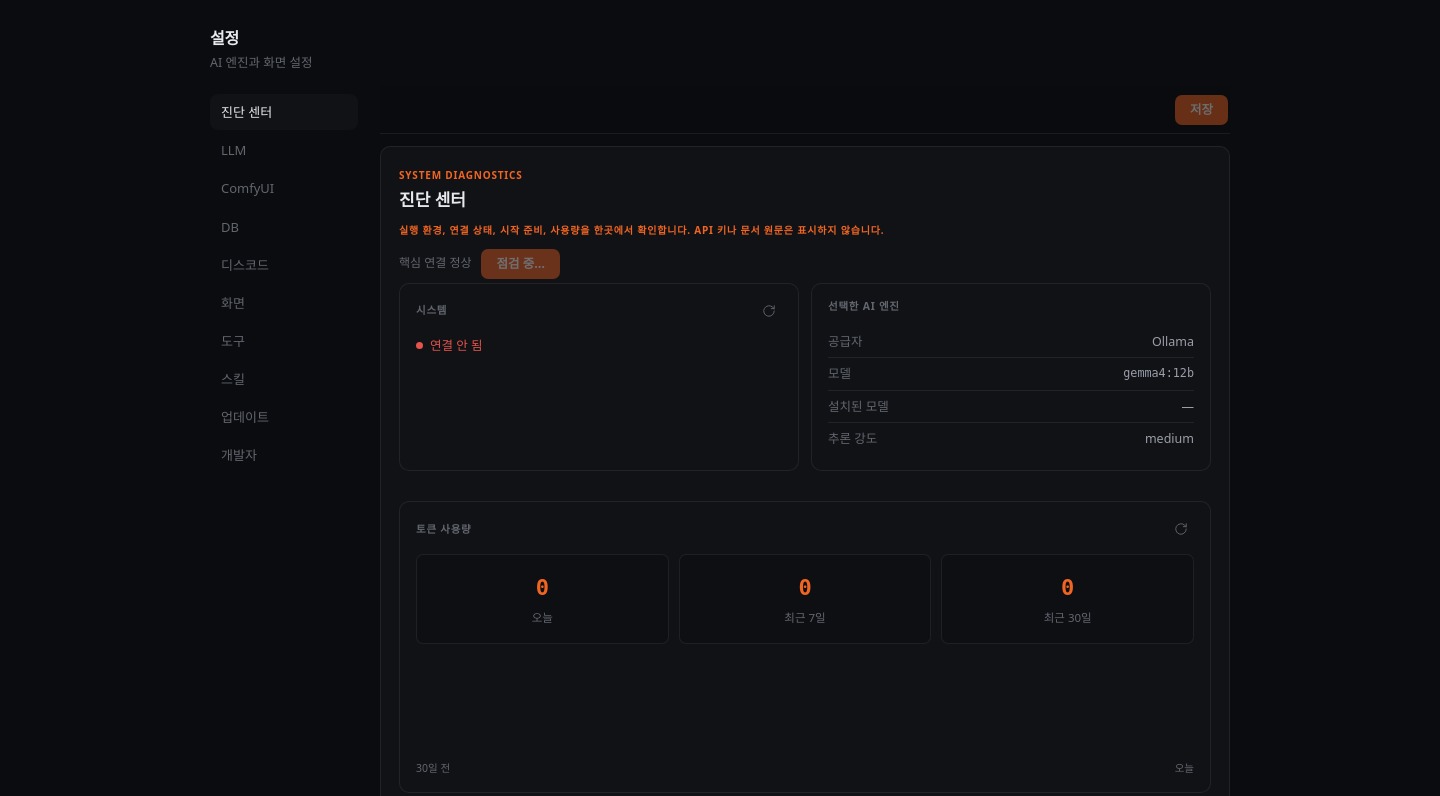
Test: 저장소 보고 등록 › 폴더를 고르기 전에는 브랜치를 묻지 않는다 — 고를 것이 없다
Click the button "디스코드" at (284, 265), box [210, 247, 358, 283]
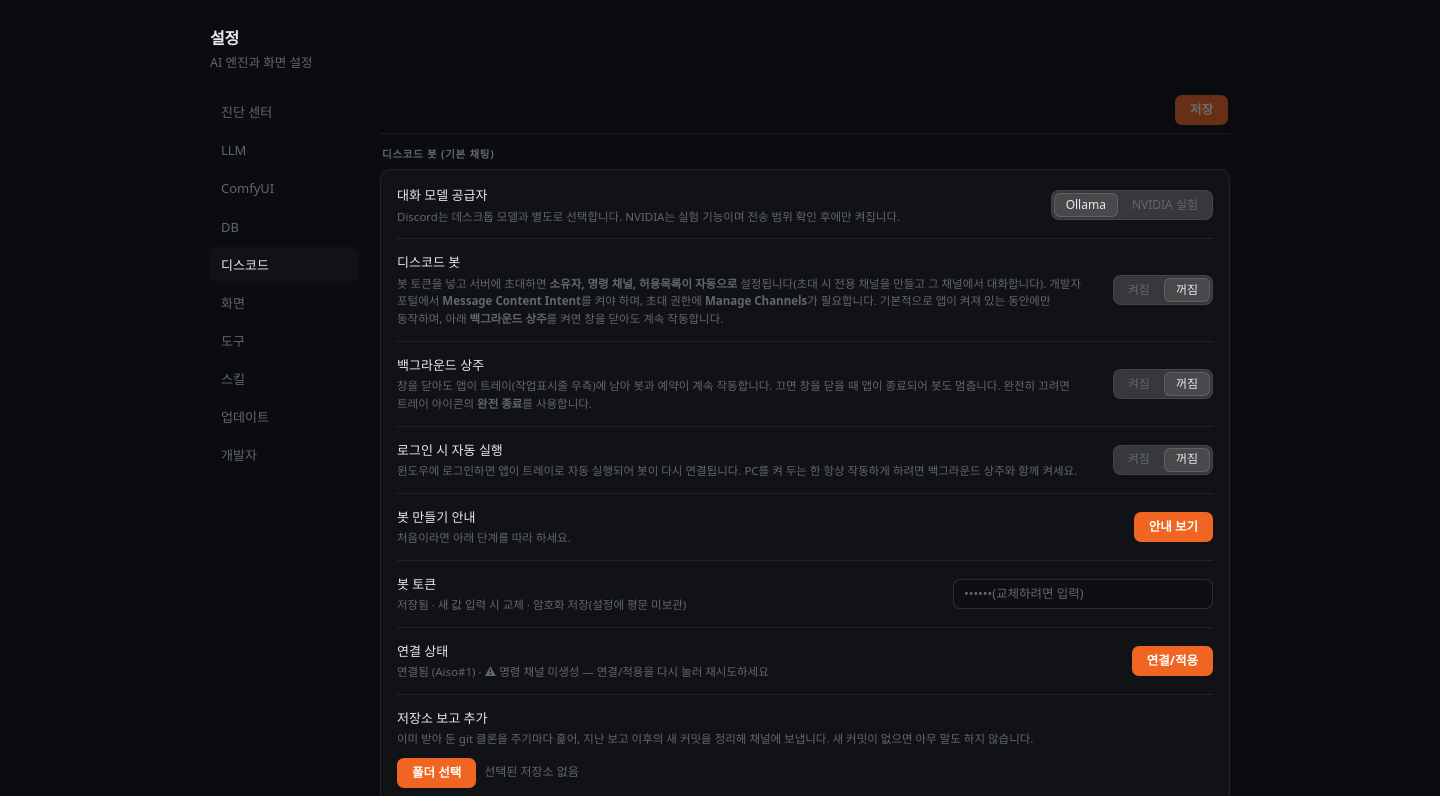
Check: the text "선택된 저장소 없음" is shown, box [484, 763, 579, 782]
